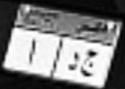1: (26, 38, 39, 64)
daal: (66, 50, 79, 73)
jeem: (80, 48, 100, 78)
